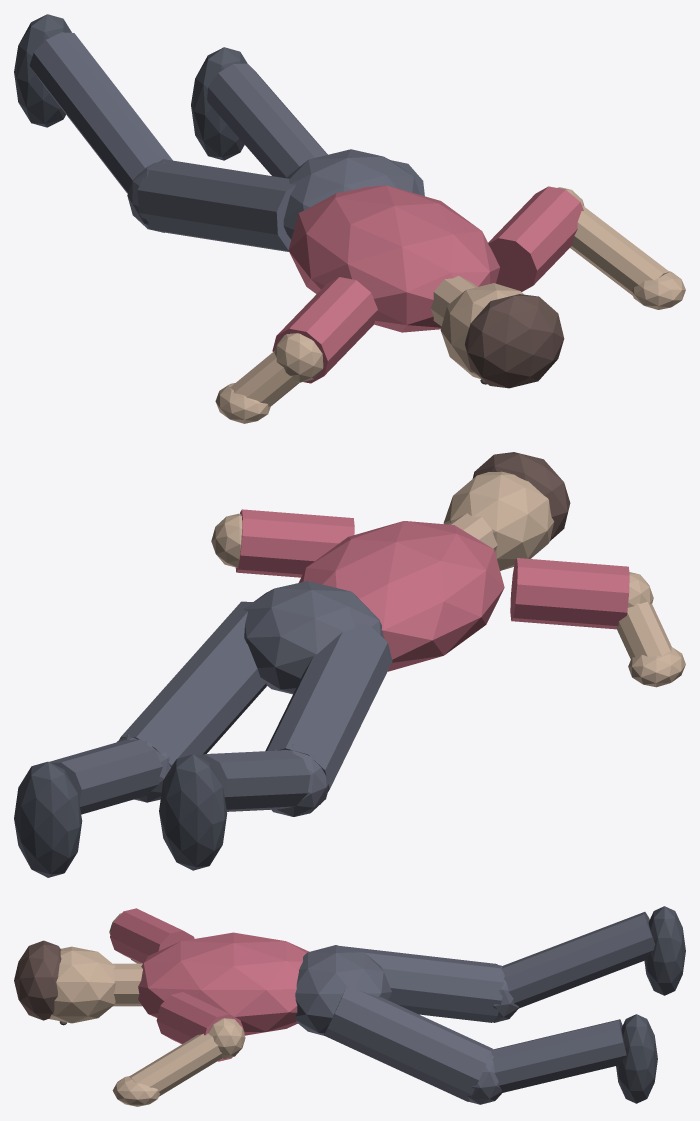
The picture shows the model from 3 angles, top to bottom: view 1: azimuth 30°, elevation 25°; view 2: azimuth 150°, elevation 25°; view 3: azimuth 270°, elevation 25°; orthographic projection. The views are drawn at different scales.
Visible parts, largest first — view 1: world; view 2: world; view 3: world.
Part boxes in pixels (<box>): world: <box>14,14,685,423</box>; world: <box>14,452,685,877</box>; world: <box>14,906,685,1106</box>.
Bounding box in the file's own units: 1.25 × 0.4556 × 2.04.
